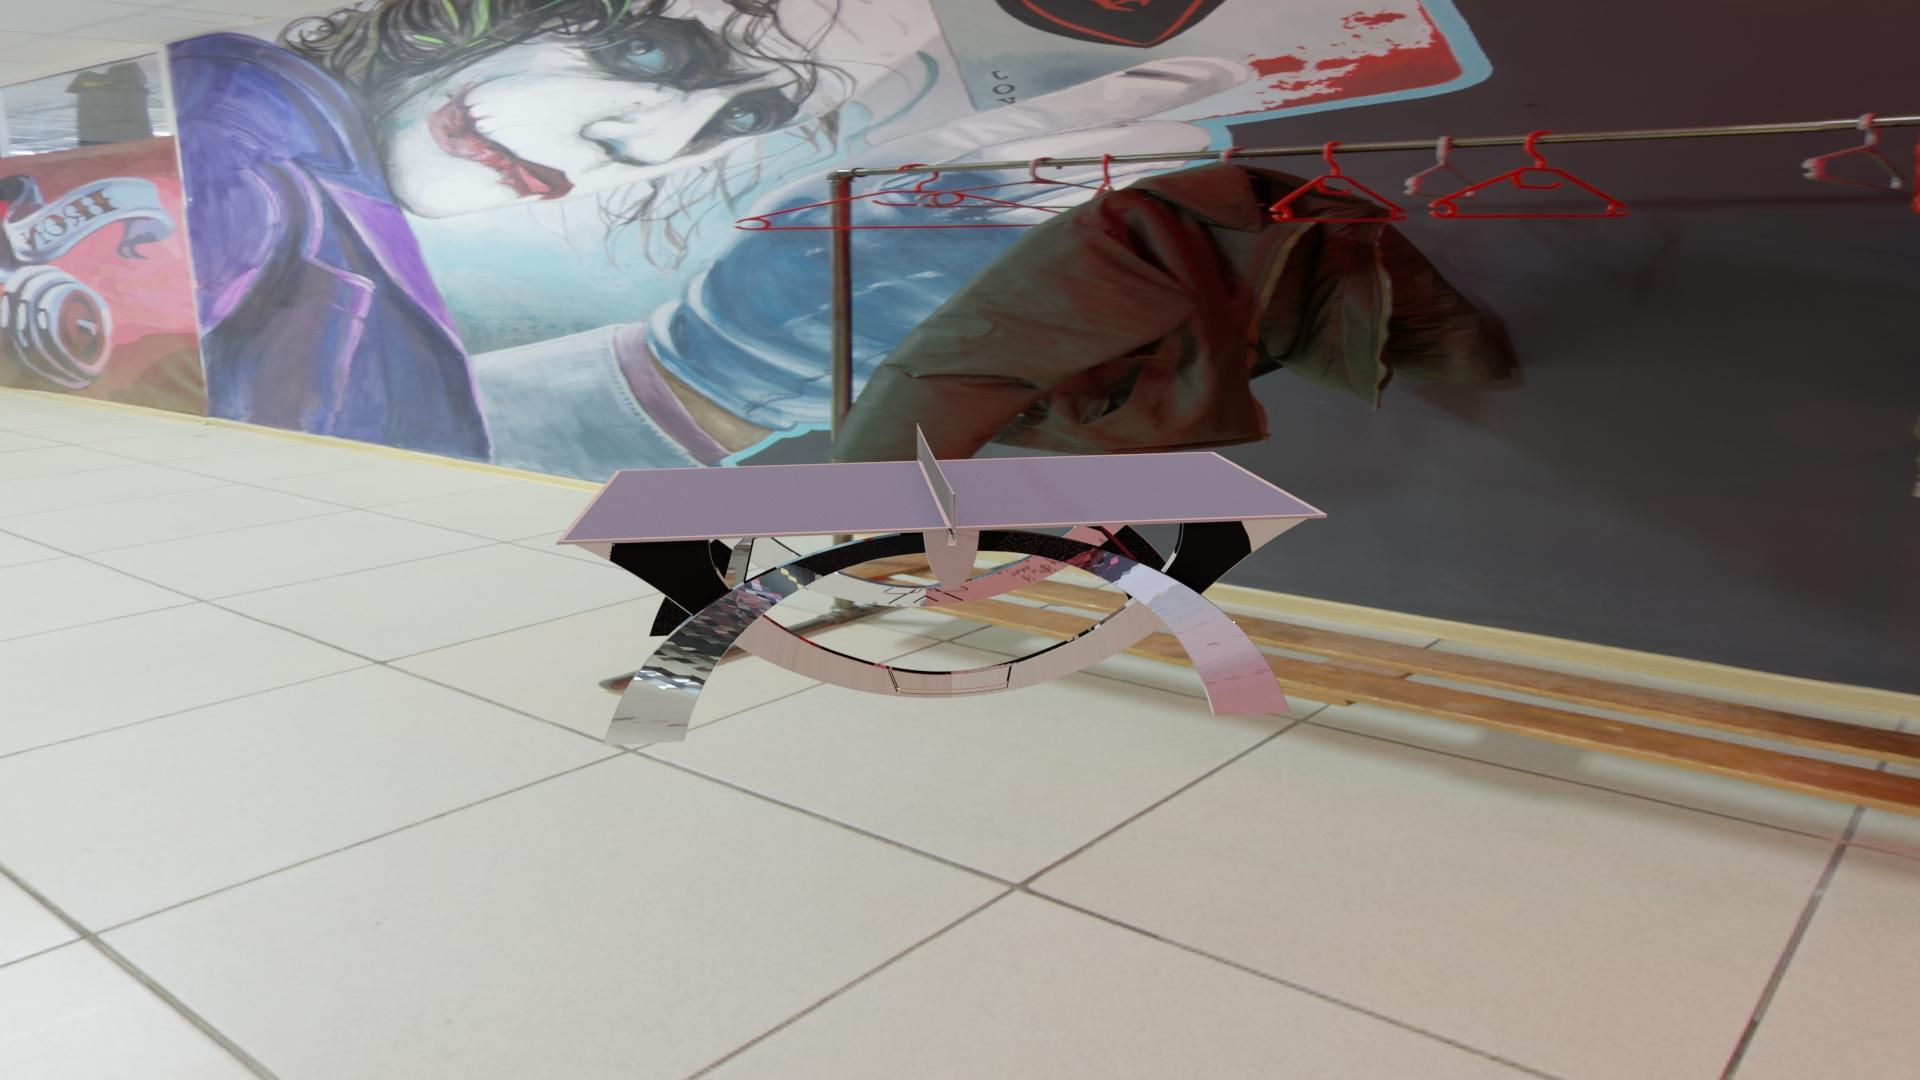table: (563, 452, 1320, 541)
